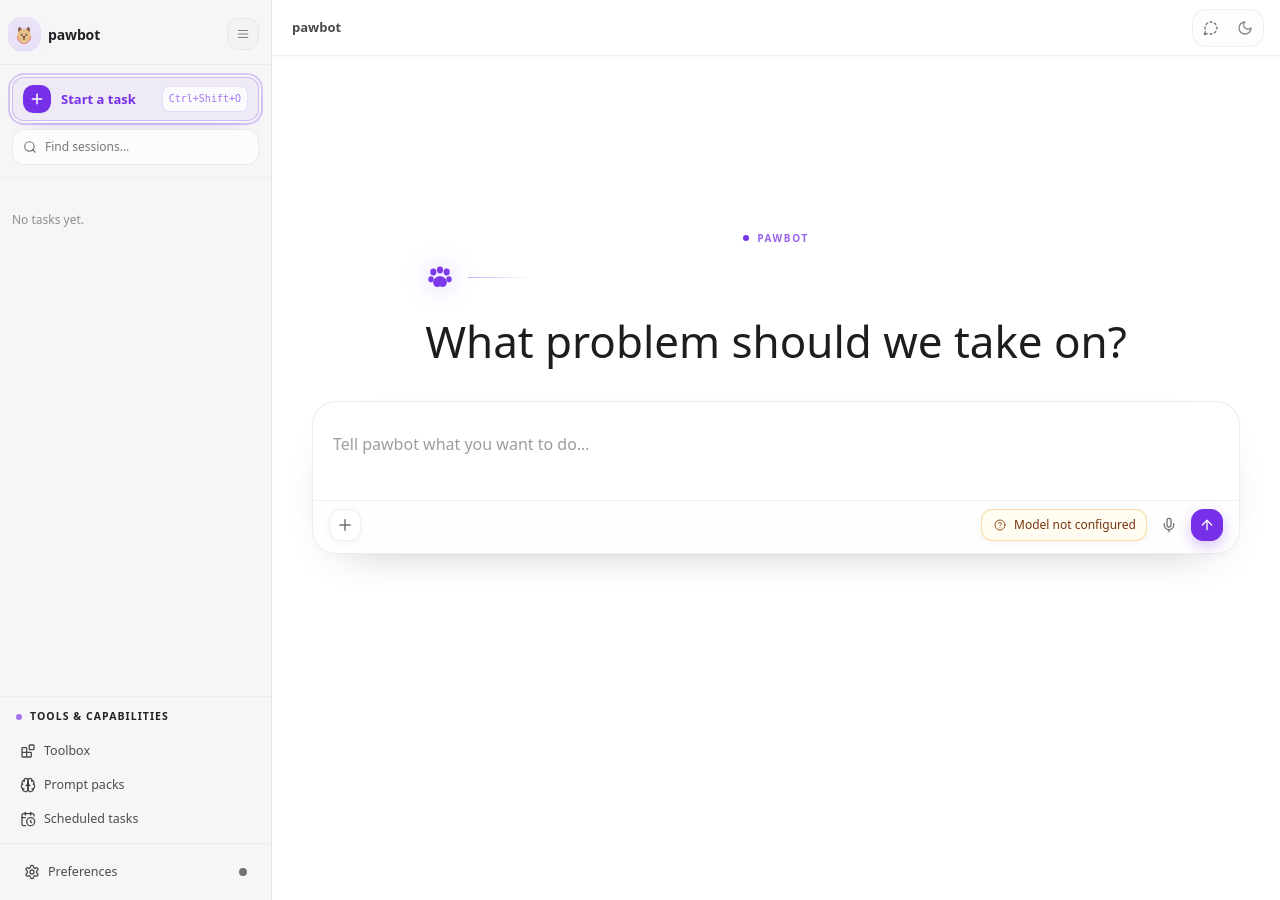
App layout › uses one main landmark and a page heading in desktop settings
Step 1. Click the button "Preferences" → (118, 872), box [12,856,223,888]
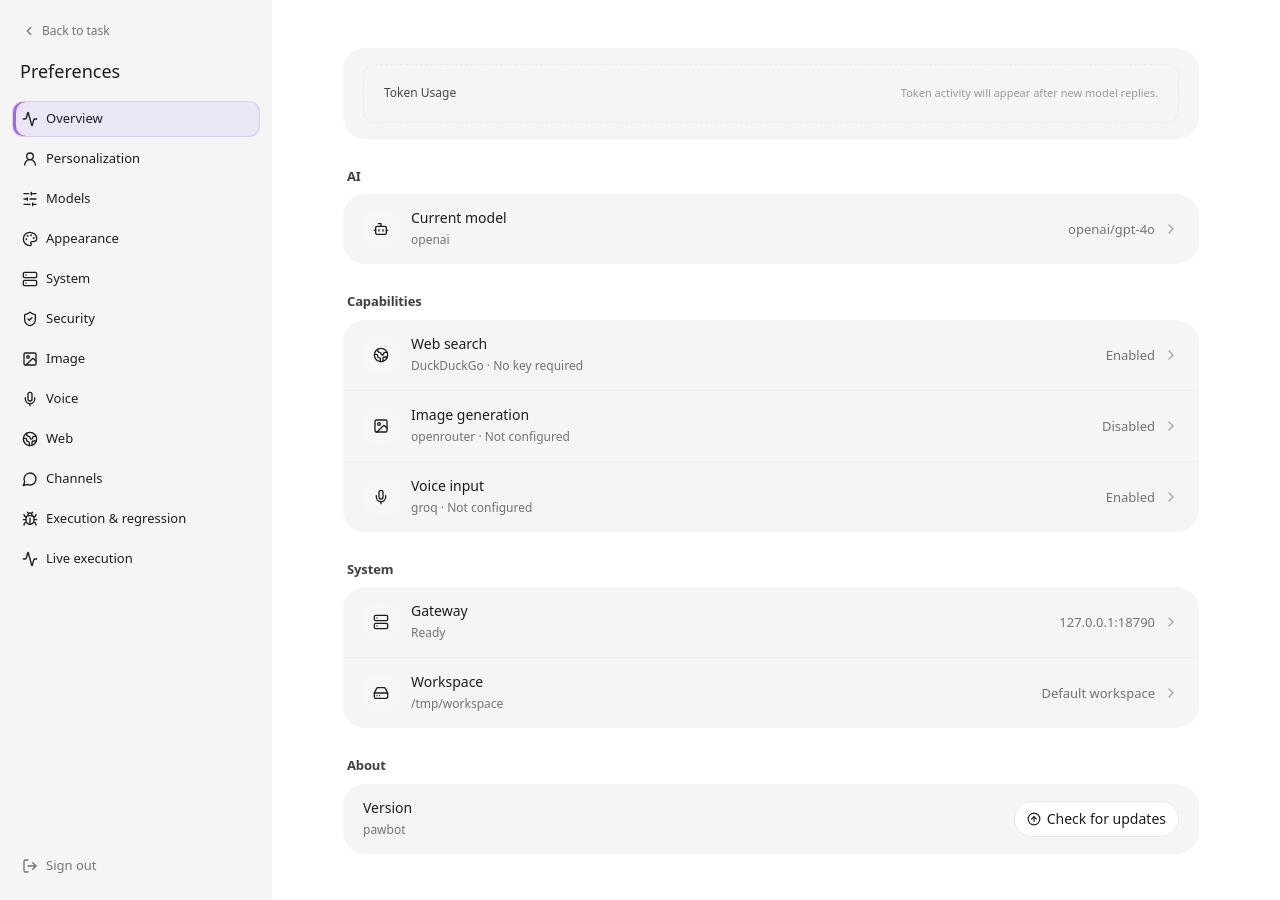
Expected: the heading "Preferences" is shown, [20,59,120,83]
Expected: the navigation bar named "Preference sections" is shown, [12,101,260,577]
